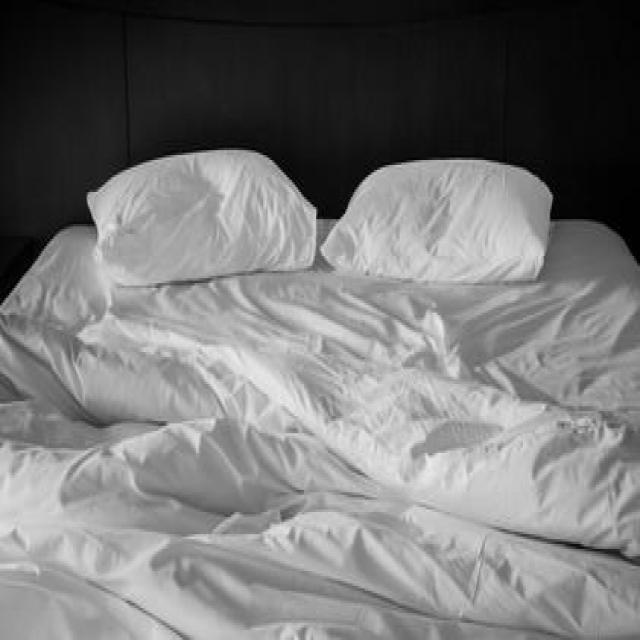bed: (12, 118, 640, 631)
